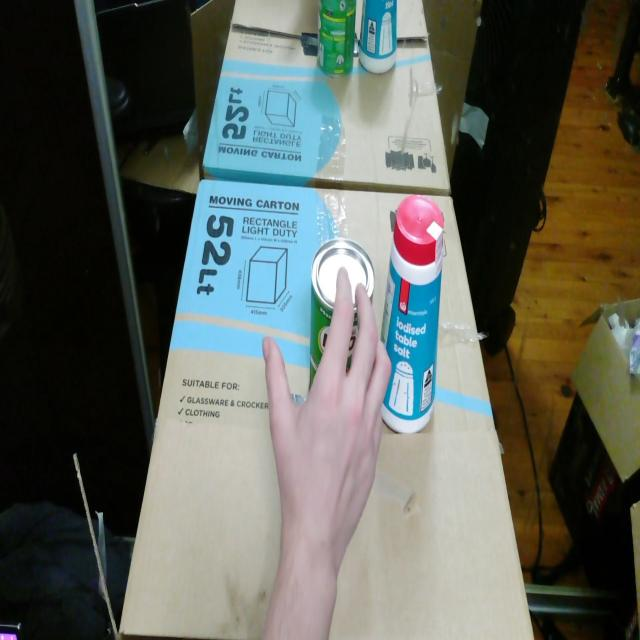nestle_milo_tin: (310, 238, 375, 390)
woolworths_salt_bottle: (380, 195, 444, 434)
